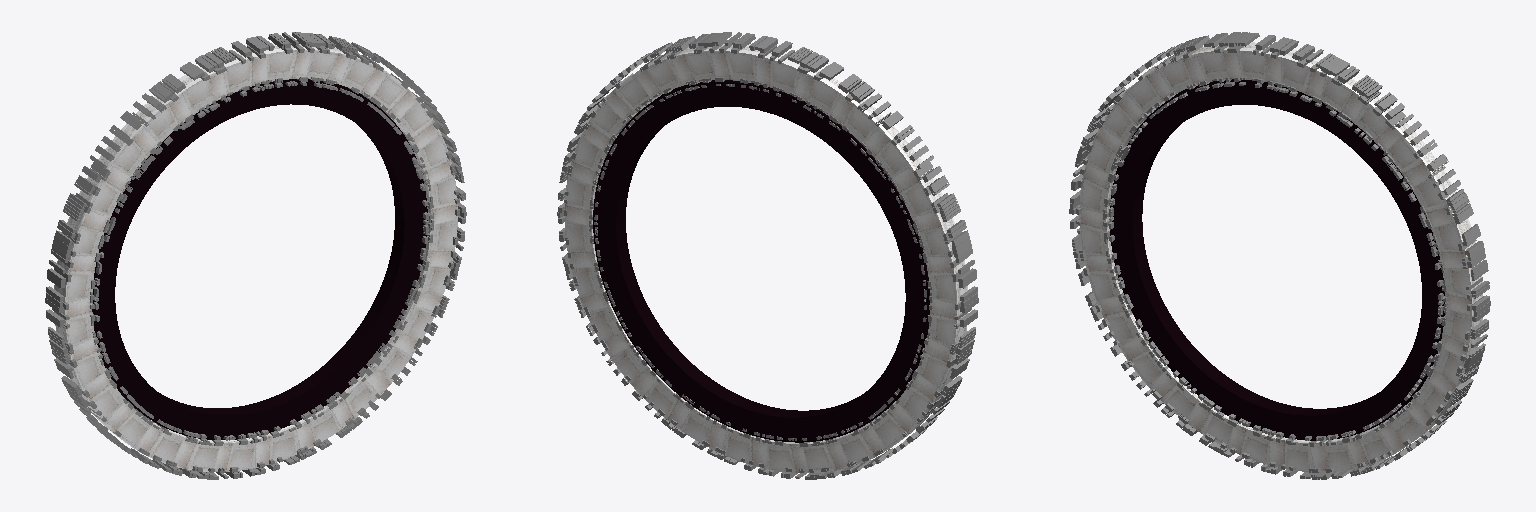
The picture shows the model from 3 angles: view 1: azimuth 30°, elevation 25°; view 2: azimuth 150°, elevation 25°; view 3: azimuth 330°, elevation 25°; orthographic projection.
Visible parts, largest first — view 1: Shape005, Shape1, Shape004, Shape003; view 2: Shape005, Shape1, Shape004, Shape003; view 3: Shape005, Shape1, Shape004, Shape003.
Boxes of the visible parts, x1=… form: Shape005: x1=54, y1=43, x2=457, y2=471; Shape1: x1=92, y1=79, x2=427, y2=439; Shape004: x1=45, y1=32, x2=466, y2=479; Shape003: x1=90, y1=77, x2=433, y2=445; Shape005: x1=565, y1=44, x2=967, y2=472; Shape1: x1=593, y1=80, x2=929, y2=442; Shape004: x1=557, y1=32, x2=978, y2=479; Shape003: x1=589, y1=78, x2=932, y2=446; Shape005: x1=1079, y1=42, x2=1482, y2=472; Shape1: x1=1110, y1=79, x2=1444, y2=440; Shape004: x1=1069, y1=32, x2=1490, y2=479; Shape003: x1=1103, y1=77, x2=1446, y2=446.
Bounding box in the file's own units: 9.64 × 9.63 × 0.5725.
3 materials, 1 textured.